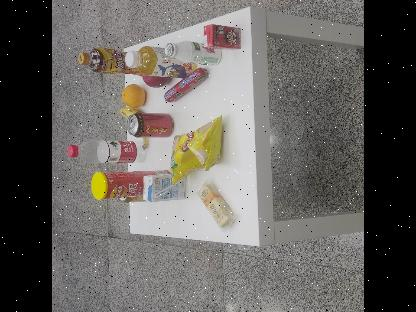Can: (126, 112, 174, 136)
Others: (89, 162, 170, 202), (139, 168, 189, 202), (201, 20, 243, 50)
Plastic Bottle: (63, 138, 146, 168)
